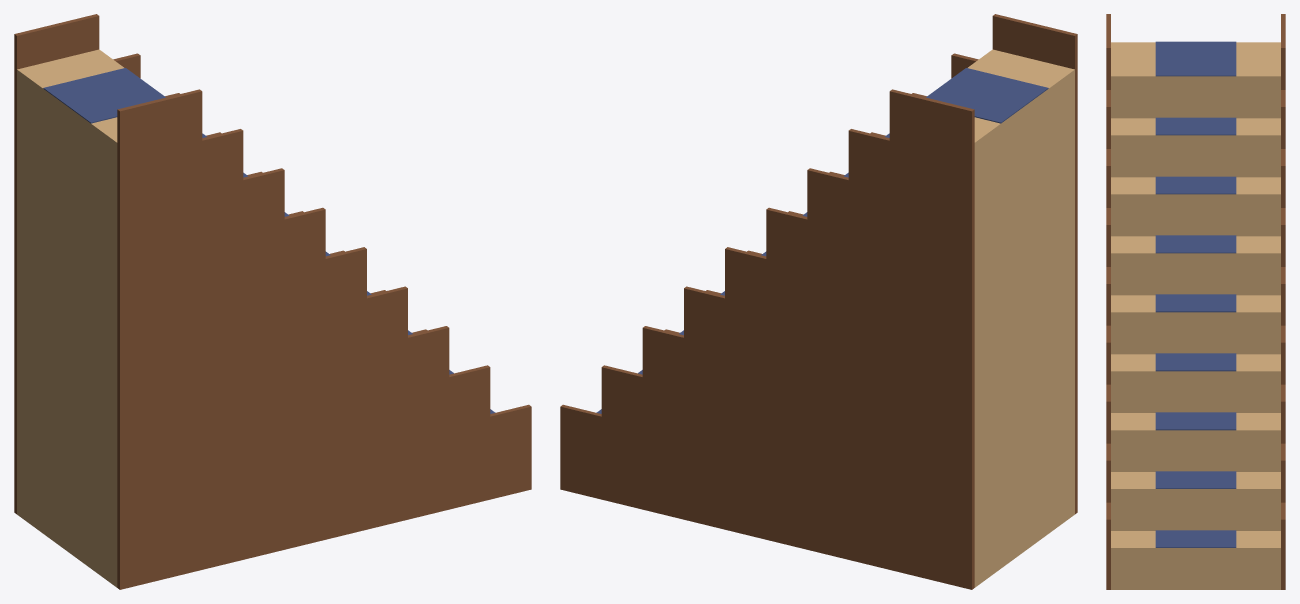
File: stair_w.glb
3 views of the same model, side by side, from view 1: azimuth 30°, elevation 25°; view 2: azimuth 150°, elevation 25°; view 3: azimuth 270°, elevation 25° (orthographic). The views are drawn at different scales.
Parts seen in each view (by area): view 1: stair_w_Body; view 2: stair_w_Body; view 3: stair_w_Body.
Boxes of the visible parts, bbox=[...] form: stair_w_Body: bbox=[14, 14, 531, 589]; stair_w_Body: bbox=[560, 14, 1077, 589]; stair_w_Body: bbox=[1106, 14, 1285, 589].
Bounding box in the file's own units: 1.8 × 2 × 0.8.
